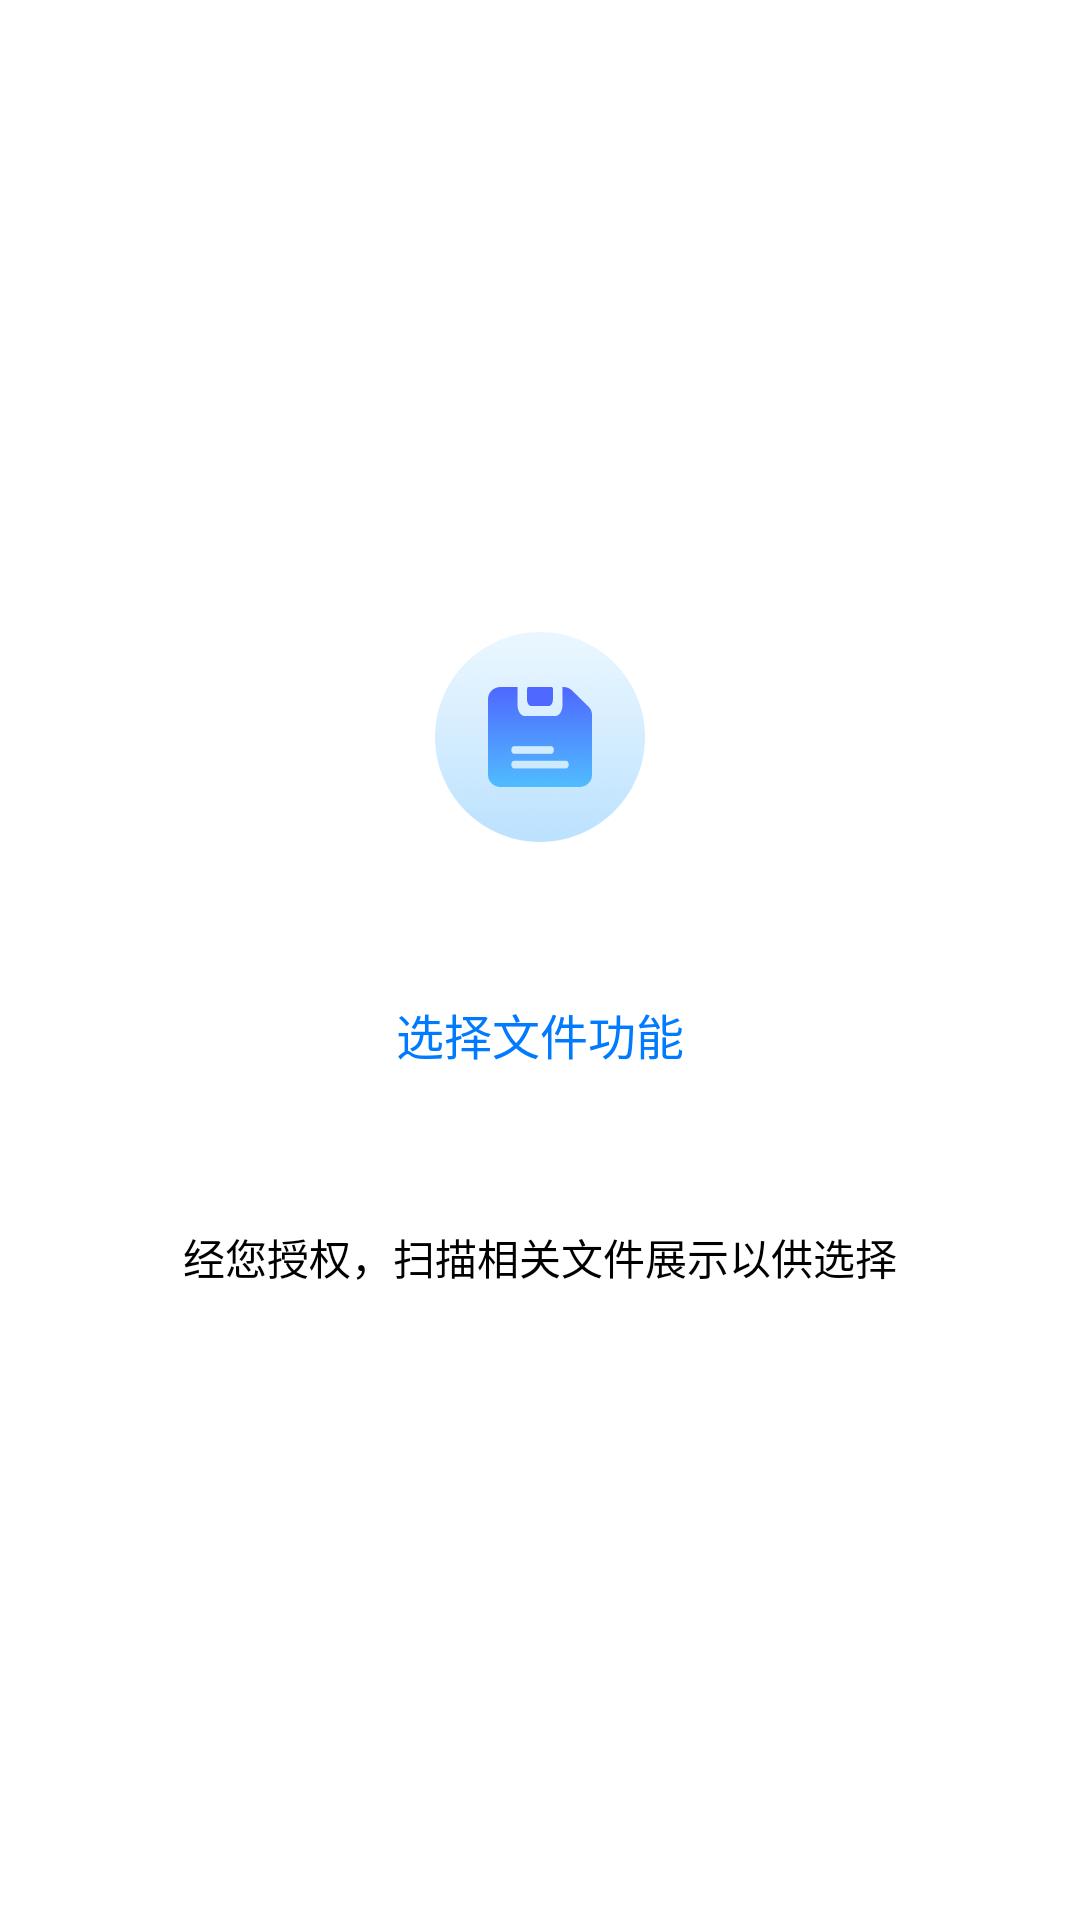

Where to tap for icons on this 1080 × 1920 app screen, as point (x, y):
storage: point (540, 747)
